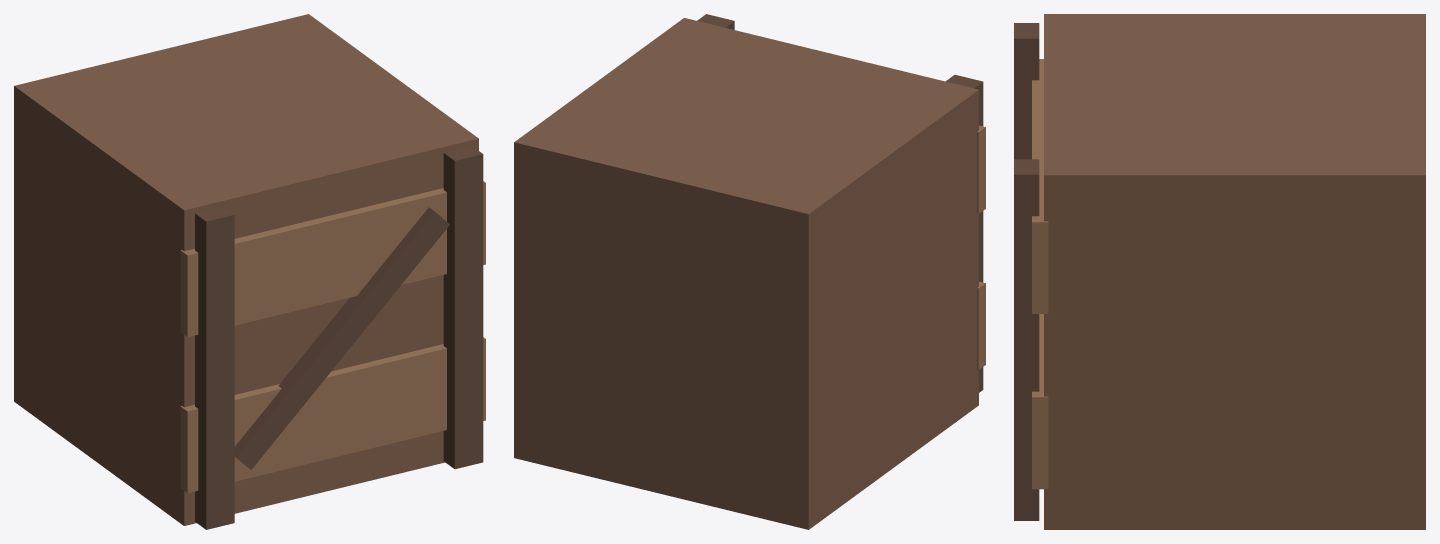
Rendered from ENV_Crate_A_LOD1.glb.
3 views of the same model, side by side, from view 1: azimuth 30°, elevation 25°; view 2: azimuth 150°, elevation 25°; view 3: azimuth 270°, elevation 25° (orthographic). The views are drawn at different scales.
Parts seen in each view (by area): view 1: ENV_Crate_A_LOD1_timber_wood, ENV_Crate_A_LOD1_timber_woodLight, ENV_Crate_A_LOD1_timber_woodDark; view 2: ENV_Crate_A_LOD1_timber_wood, ENV_Crate_A_LOD1_timber_woodLight, ENV_Crate_A_LOD1_timber_woodDark; view 3: ENV_Crate_A_LOD1_timber_wood, ENV_Crate_A_LOD1_timber_woodDark, ENV_Crate_A_LOD1_timber_woodLight.
Boxes of the visible parts, x1,y1,x2,y2 form: ENV_Crate_A_LOD1_timber_wood: [14, 14, 478, 525]; ENV_Crate_A_LOD1_timber_woodLight: [180, 181, 485, 493]; ENV_Crate_A_LOD1_timber_woodDark: [195, 146, 483, 529]; ENV_Crate_A_LOD1_timber_wood: [514, 18, 978, 529]; ENV_Crate_A_LOD1_timber_woodLight: [977, 125, 985, 369]; ENV_Crate_A_LOD1_timber_woodDark: [697, 14, 983, 392]; ENV_Crate_A_LOD1_timber_wood: [1044, 14, 1425, 529]; ENV_Crate_A_LOD1_timber_woodDark: [1014, 23, 1039, 520]; ENV_Crate_A_LOD1_timber_woodLight: [1032, 59, 1048, 489].
Size of the model in its own units: 0.84 by 0.85 by 0.8945.
